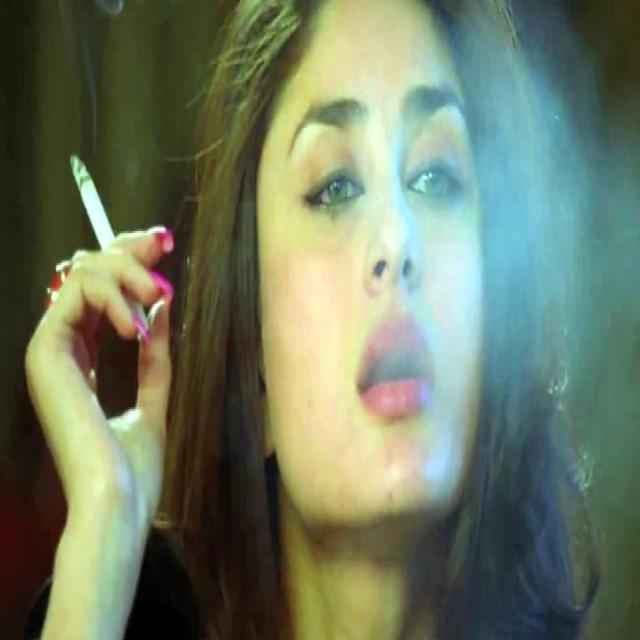cigarette: (55, 137, 193, 382)
